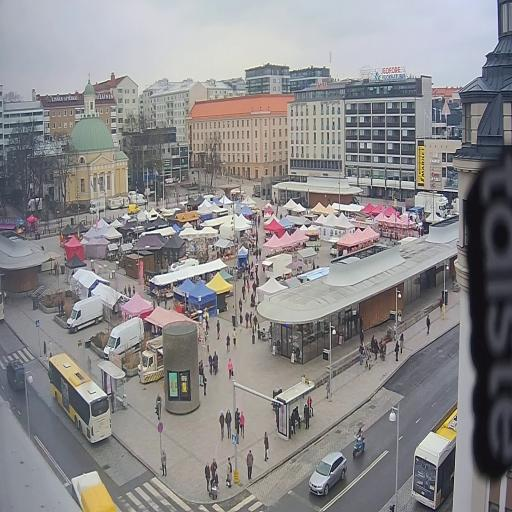bus: (48, 354, 111, 443), (411, 402, 457, 510), (71, 471, 119, 512), (0, 274, 4, 320)
car: (309, 451, 347, 495)
delivery: (104, 317, 144, 359), (67, 296, 102, 332), (137, 336, 163, 383), (415, 191, 451, 217), (7, 359, 25, 391)
two-wheels: (353, 428, 365, 457)
